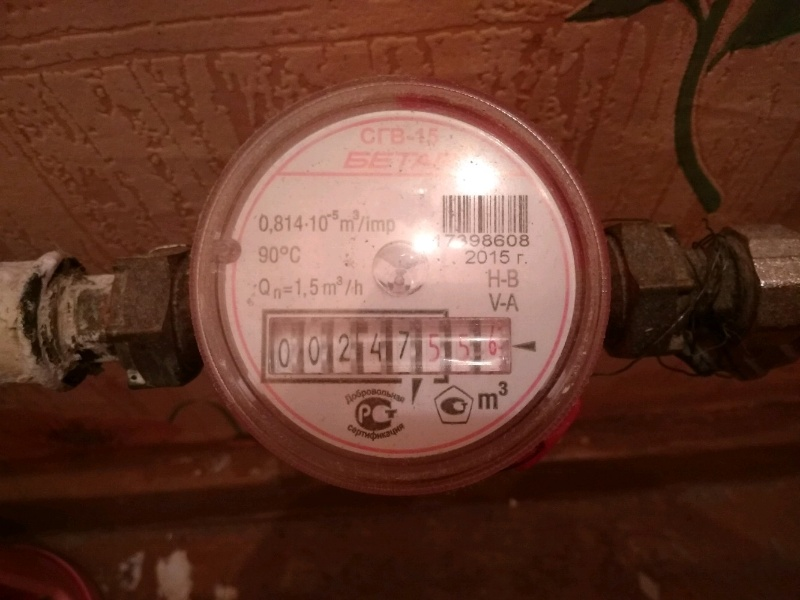dial: (260, 320, 512, 380)
